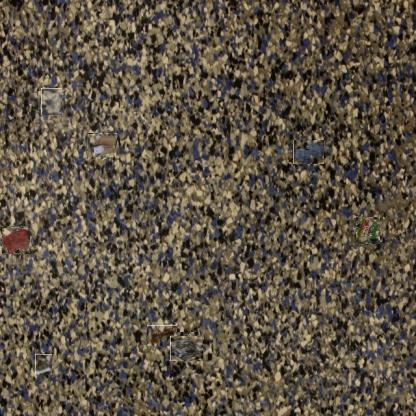dirty: (172, 334, 202, 363), (87, 133, 117, 159), (355, 217, 381, 243), (147, 325, 177, 346), (40, 90, 63, 113), (35, 354, 52, 375)
liquid: (2, 226, 30, 254), (293, 140, 324, 164)
